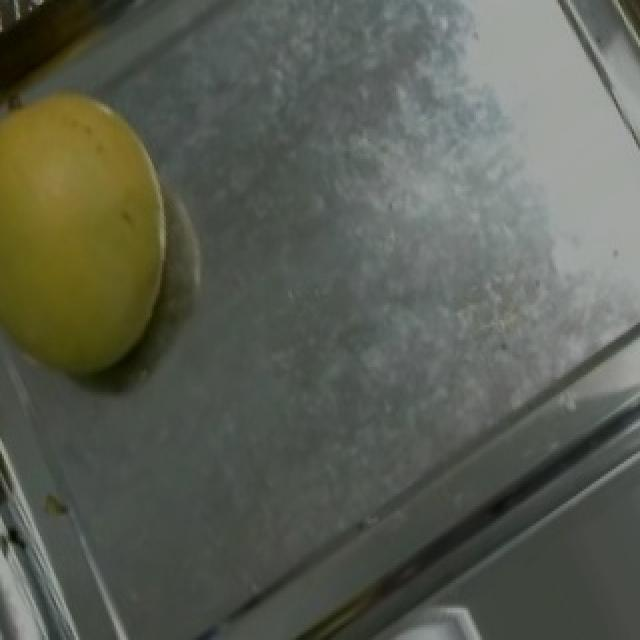fruit: (0, 49, 246, 417)
